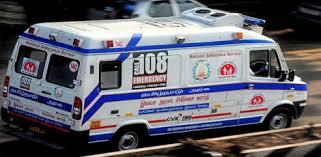ER: (3, 7, 308, 136)
